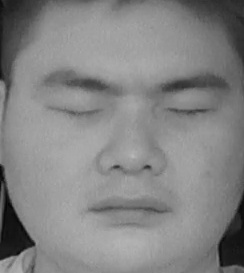blink: (54, 93, 102, 130), (167, 94, 216, 126)
mouth: (90, 183, 175, 228)
